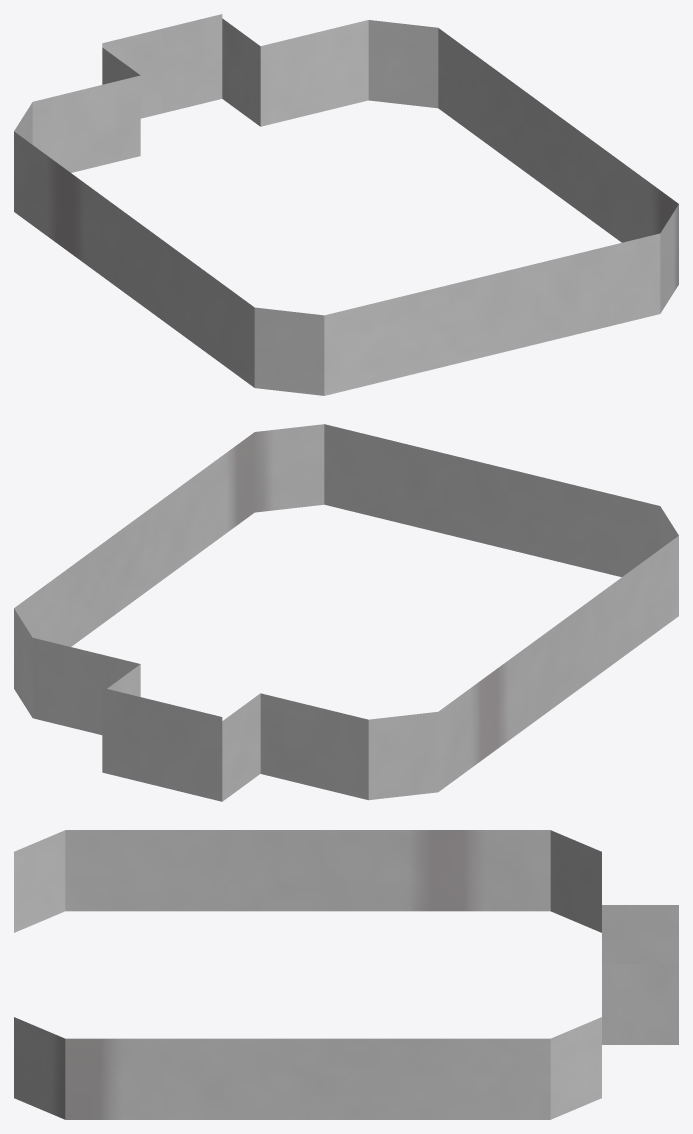
File: lobby_lower_wall 1.fbx
3 renders of one model, top to bottom at view 1: azimuth 30°, elevation 25°; view 2: azimuth 150°, elevation 25°; view 3: azimuth 270°, elevation 25°, orthographic.
Visible parts, largest first — view 1: lobby_lower_wall; view 2: lobby_lower_wall; view 3: lobby_lower_wall.
Boxes of the visible parts, x1,y1,x2,y2 form: lobby_lower_wall: [14, 14, 678, 395]; lobby_lower_wall: [14, 424, 678, 801]; lobby_lower_wall: [14, 830, 678, 1119].
Bounding box in the file's own units: 3140 × 600 × 4230.
